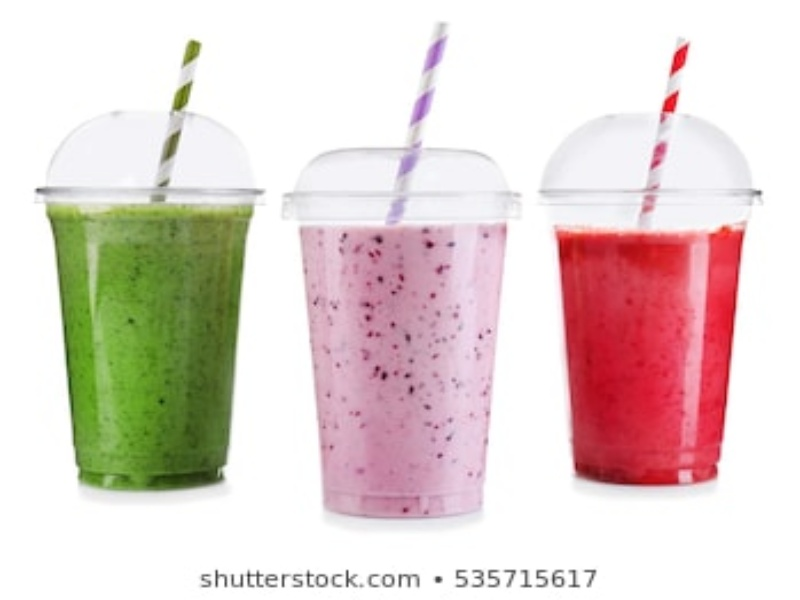plastic-cup: (285, 142, 523, 530), (540, 108, 761, 487), (39, 108, 255, 490)
straw: (381, 17, 456, 220), (630, 33, 691, 225), (147, 33, 208, 199)
